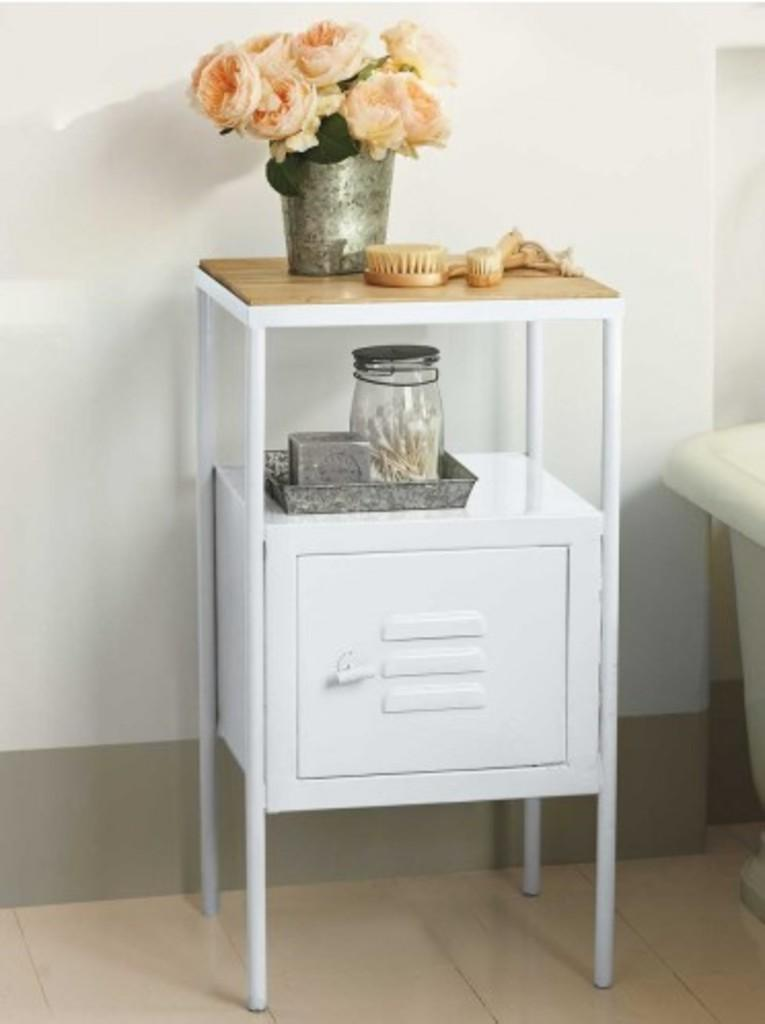cabinet_door: (301, 574, 564, 764)
handle: (322, 650, 372, 693)
